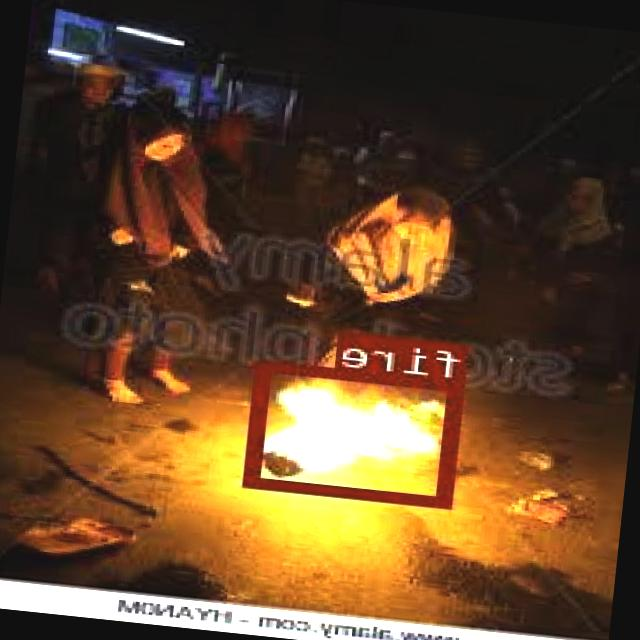fire: (248, 360, 466, 506)
